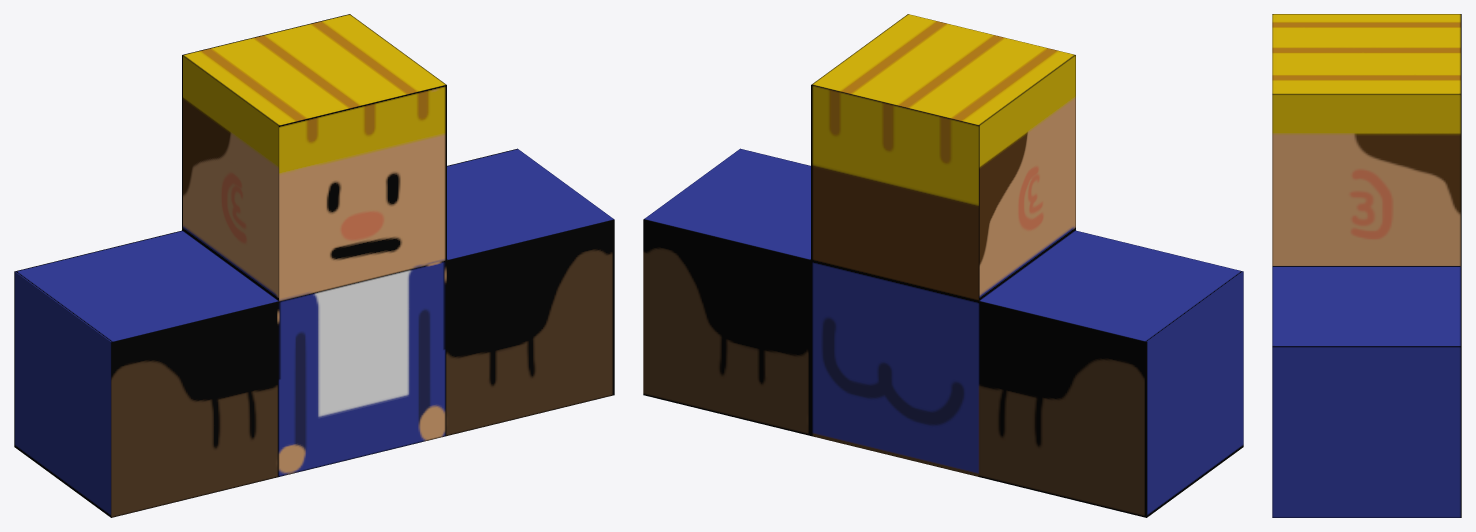
The model's file is tblock.fbx.
3 renders of one model, left to right at view 1: azimuth 30°, elevation 25°; view 2: azimuth 150°, elevation 25°; view 3: azimuth 270°, elevation 25°, orthographic. The views are drawn at different scales.
Parts seen in each view (by area): view 1: Box029; view 2: Box029; view 3: Box029.
Part boxes in pixels (x1,y1,x2,y2): Box029: (14, 14, 614, 517); Box029: (643, 14, 1243, 517); Box029: (1272, 14, 1461, 517).
Size of the model in its own units: 11.81 by 7.87 by 3.94.
